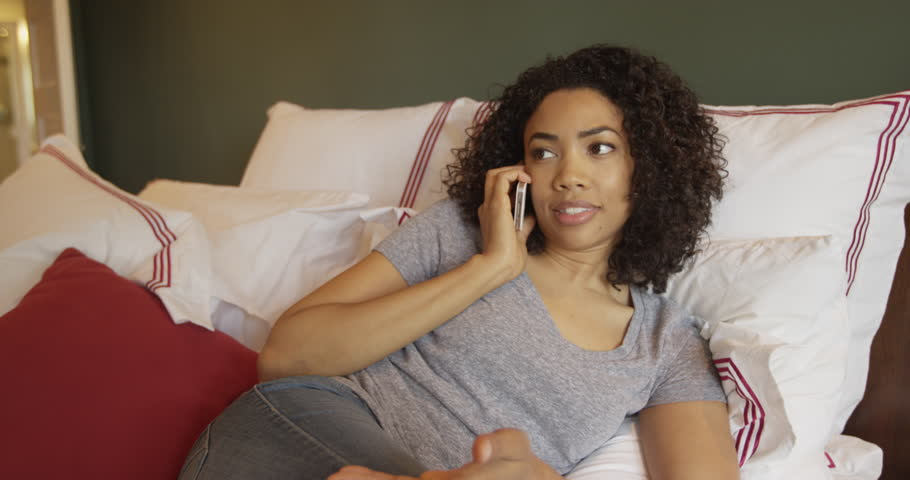phone: (480, 163, 545, 245)
talk: (475, 117, 642, 278)
